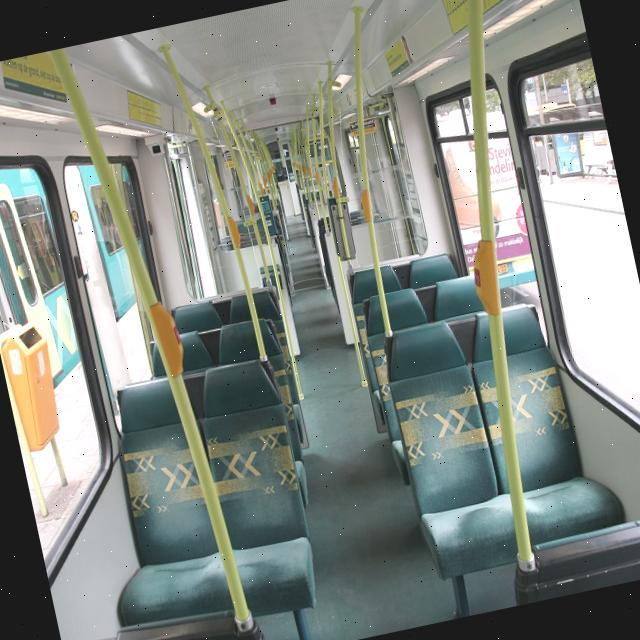empty-seat-frontal: (460, 292, 630, 561), (168, 353, 328, 629), (68, 374, 228, 634), (376, 312, 523, 584)
